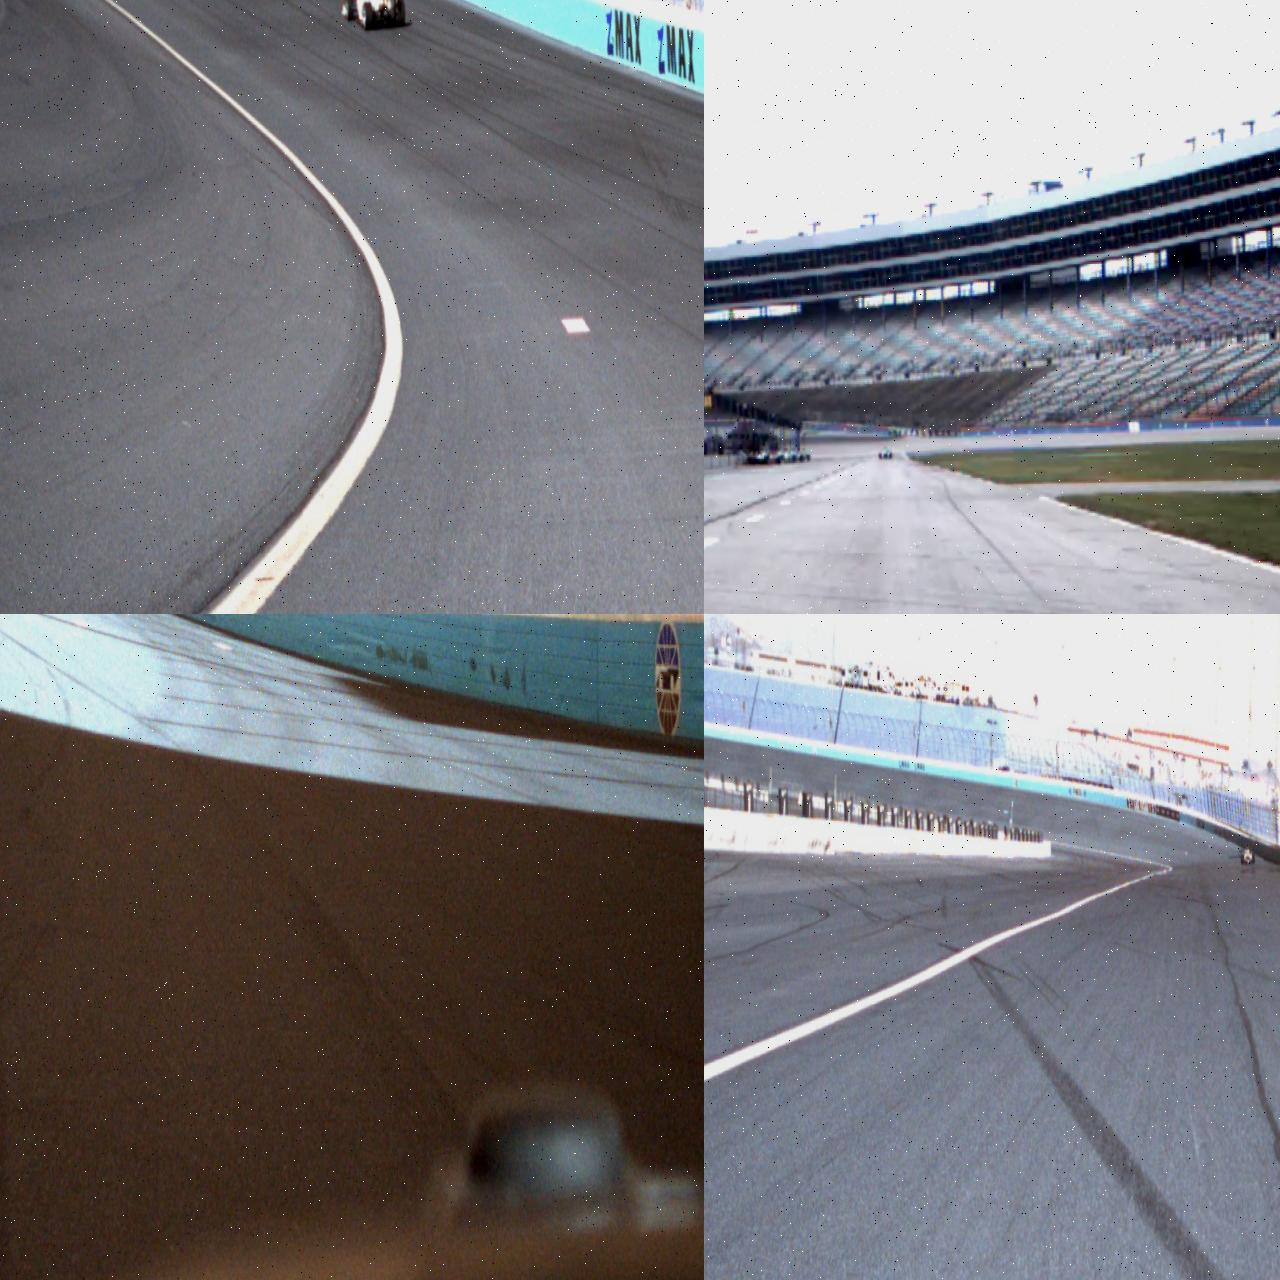AV: (341, 0, 406, 30), (1241, 844, 1255, 864), (878, 448, 894, 460)
Wheel: (362, 2, 373, 30), (395, 0, 405, 26), (344, 0, 353, 21), (1252, 853, 1255, 863), (1241, 855, 1244, 864)
